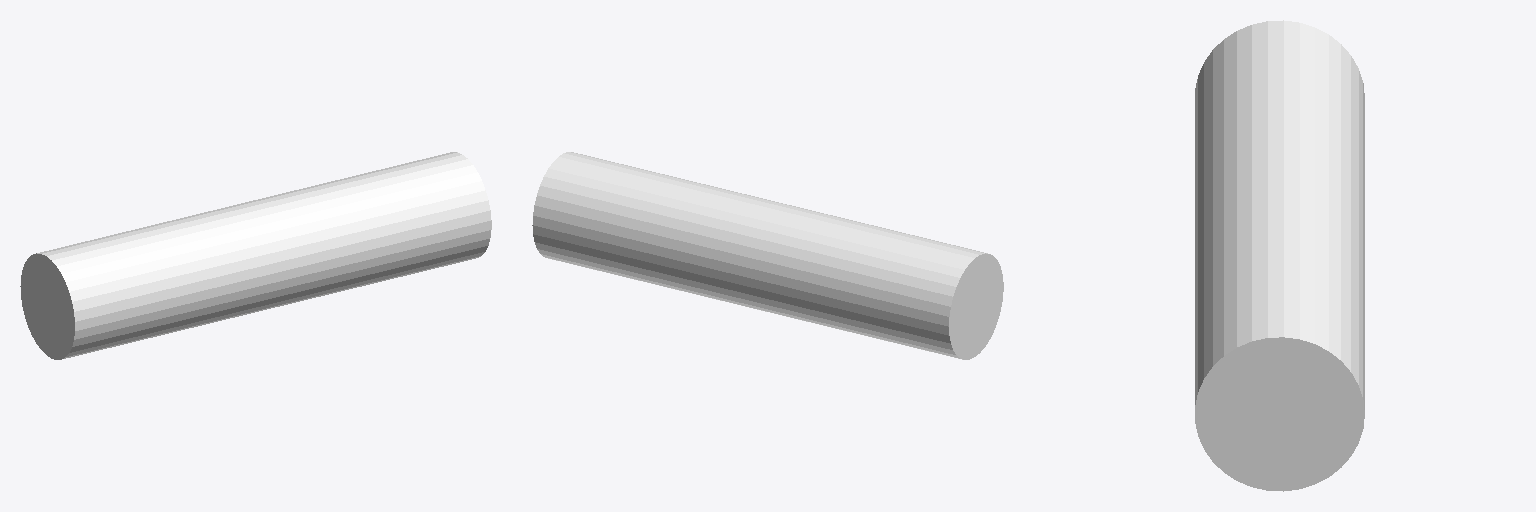
URDF robot description (cube.urdf):
<?xml version="1.0" ?>
<robot name="cube.urdf">
  <link name="baseLink">
    <contact>
    	<friction_anchor/>
    	   <lateral_friction value="5.5"/>
        <rolling_friction value="55.005"/>
        <spinning_friction value="55.005"/>
    </contact>
    <inertial>
      <origin rpy="0 0 0" xyz="0 0 0"/>
       <mass value="1"/>
       <inertia ixx="1" ixy="0" ixz="0" iyy="1.3" iyz="0" izz="0.5"/>
    </inertial>
    <visual>
      <origin rpy="0 0 0" xyz="0 0 0"/>
      <geometry>
				<mesh filename="cylinder.obj" scale=".004 .004 .004"/>
      </geometry>
       <material name="white">
        <color rgba="1 1 1 1"/>
      </material>
    </visual>
    <collision>
      <origin rpy="0 0 0" xyz="0 0 0"/>
      <geometry>
	 	<box size=".004 .004 .004"/>
      </geometry>
    </collision>
  </link>
</robot>

--- Render facts (derived) ---
Views: 3 orthographic renders of the robot side by side, from view 1: azimuth 30°, elevation 25°; view 2: azimuth 150°, elevation 25°; view 3: azimuth 270°, elevation 25°.
Model cube.urdf with 1 links and 0 joints (none), rooted at baseLink, posed all joints at 0.
Links seen in each view (by area): view 1: baseLink; view 2: baseLink; view 3: baseLink.
Link boxes in pixels (x1,y1,x2,y2): baseLink: (20,152,491,359); baseLink: (532,152,1003,359); baseLink: (1195,20,1364,491).
Bounding box of the posed robot: 0.176 × 0.0399 × 0.04 m (x, y, z).
1 mesh visuals loaded from 1 distinct referenced files (1 OBJ).